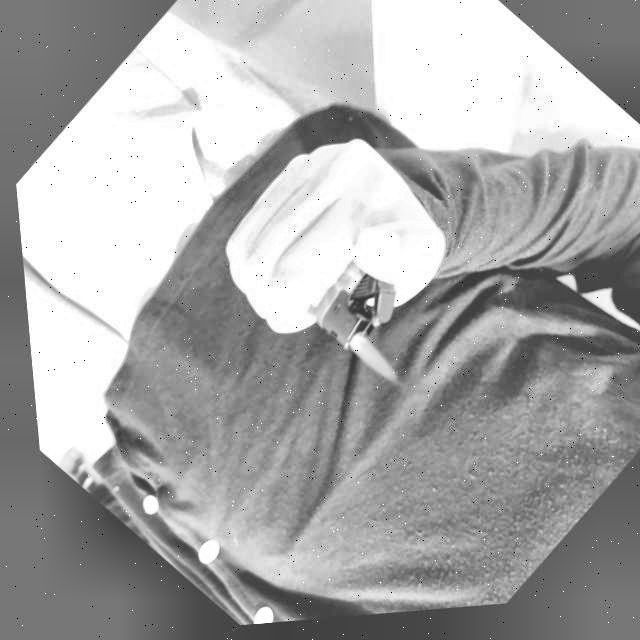Fire: (339, 335, 402, 399)
